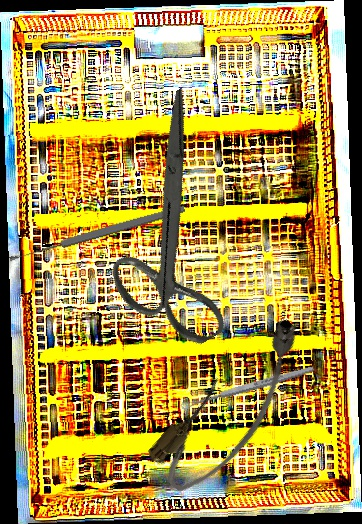Cannula: (141, 309, 327, 504)
Iris Scissors: (45, 87, 301, 367)
Surgical Spoon: (8, 203, 186, 264), (179, 364, 316, 411)
